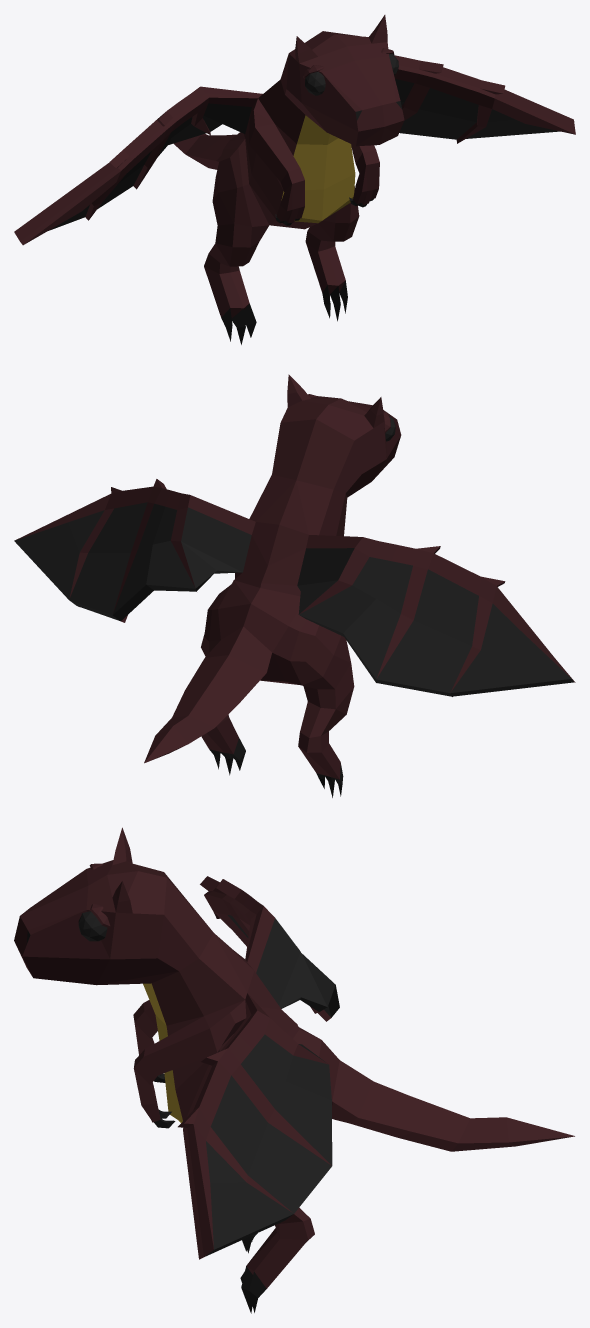
The model's file is dragon-9b6f65672d.glb.
The picture shows the model from 3 angles, top to bottom: view 1: azimuth 30°, elevation 25°; view 2: azimuth 150°, elevation 25°; view 3: azimuth 270°, elevation 25°; orthographic projection. The views are drawn at different scales.
Visible parts, largest first — view 1: Dragon.obj; view 2: Dragon.obj; view 3: Dragon.obj.
Part boxes in pixels (left/top/right/bottom): Dragon.obj: left=14, top=15, right=575, bottom=344; Dragon.obj: left=14, top=374, right=575, bottom=797; Dragon.obj: left=14, top=827, right=574, bottom=1313.
Size of the model in its own units: 5.76 by 3.5 by 4.13.
